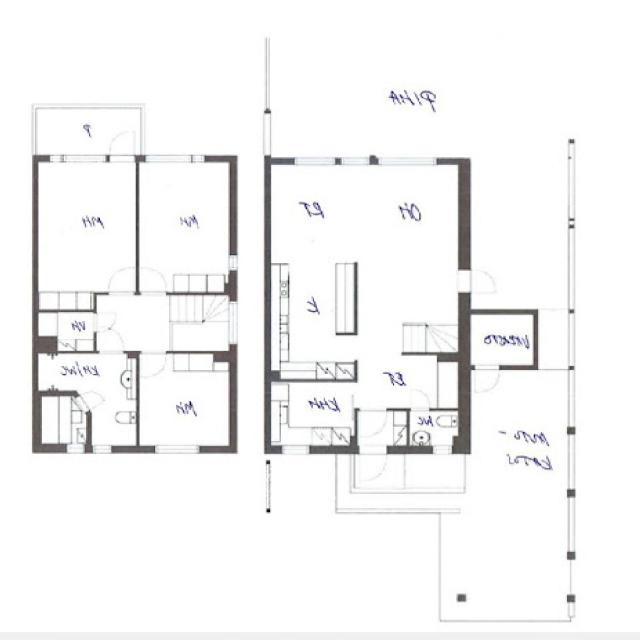door: (359, 446, 387, 479), (459, 269, 495, 293), (109, 134, 135, 164), (75, 386, 105, 412), (360, 409, 387, 436), (140, 268, 166, 295), (474, 365, 499, 393), (109, 268, 134, 295), (141, 351, 167, 376), (99, 327, 124, 352), (410, 391, 430, 411), (94, 314, 116, 332)
